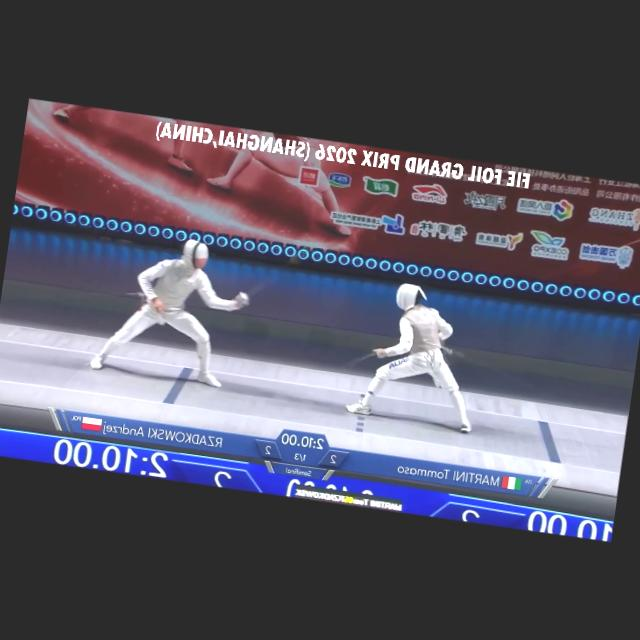blade: (232, 238, 307, 313), (338, 339, 392, 378)
